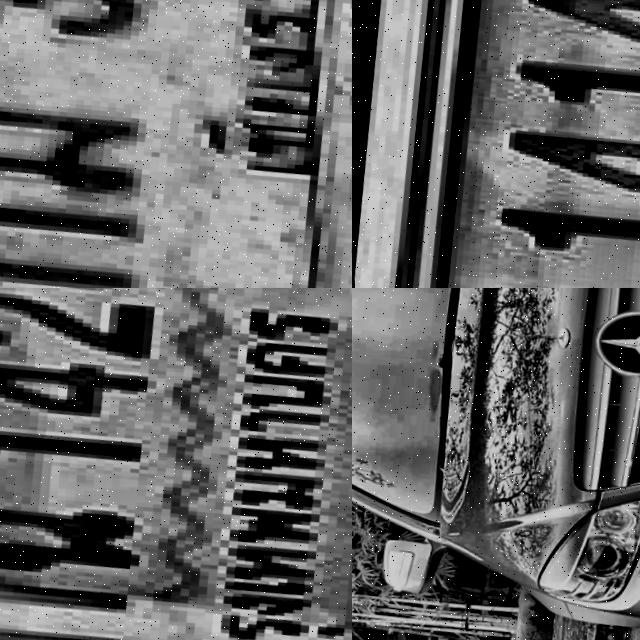license-plate: (0, 288, 352, 640), (0, 0, 352, 288), (352, 0, 640, 288)
